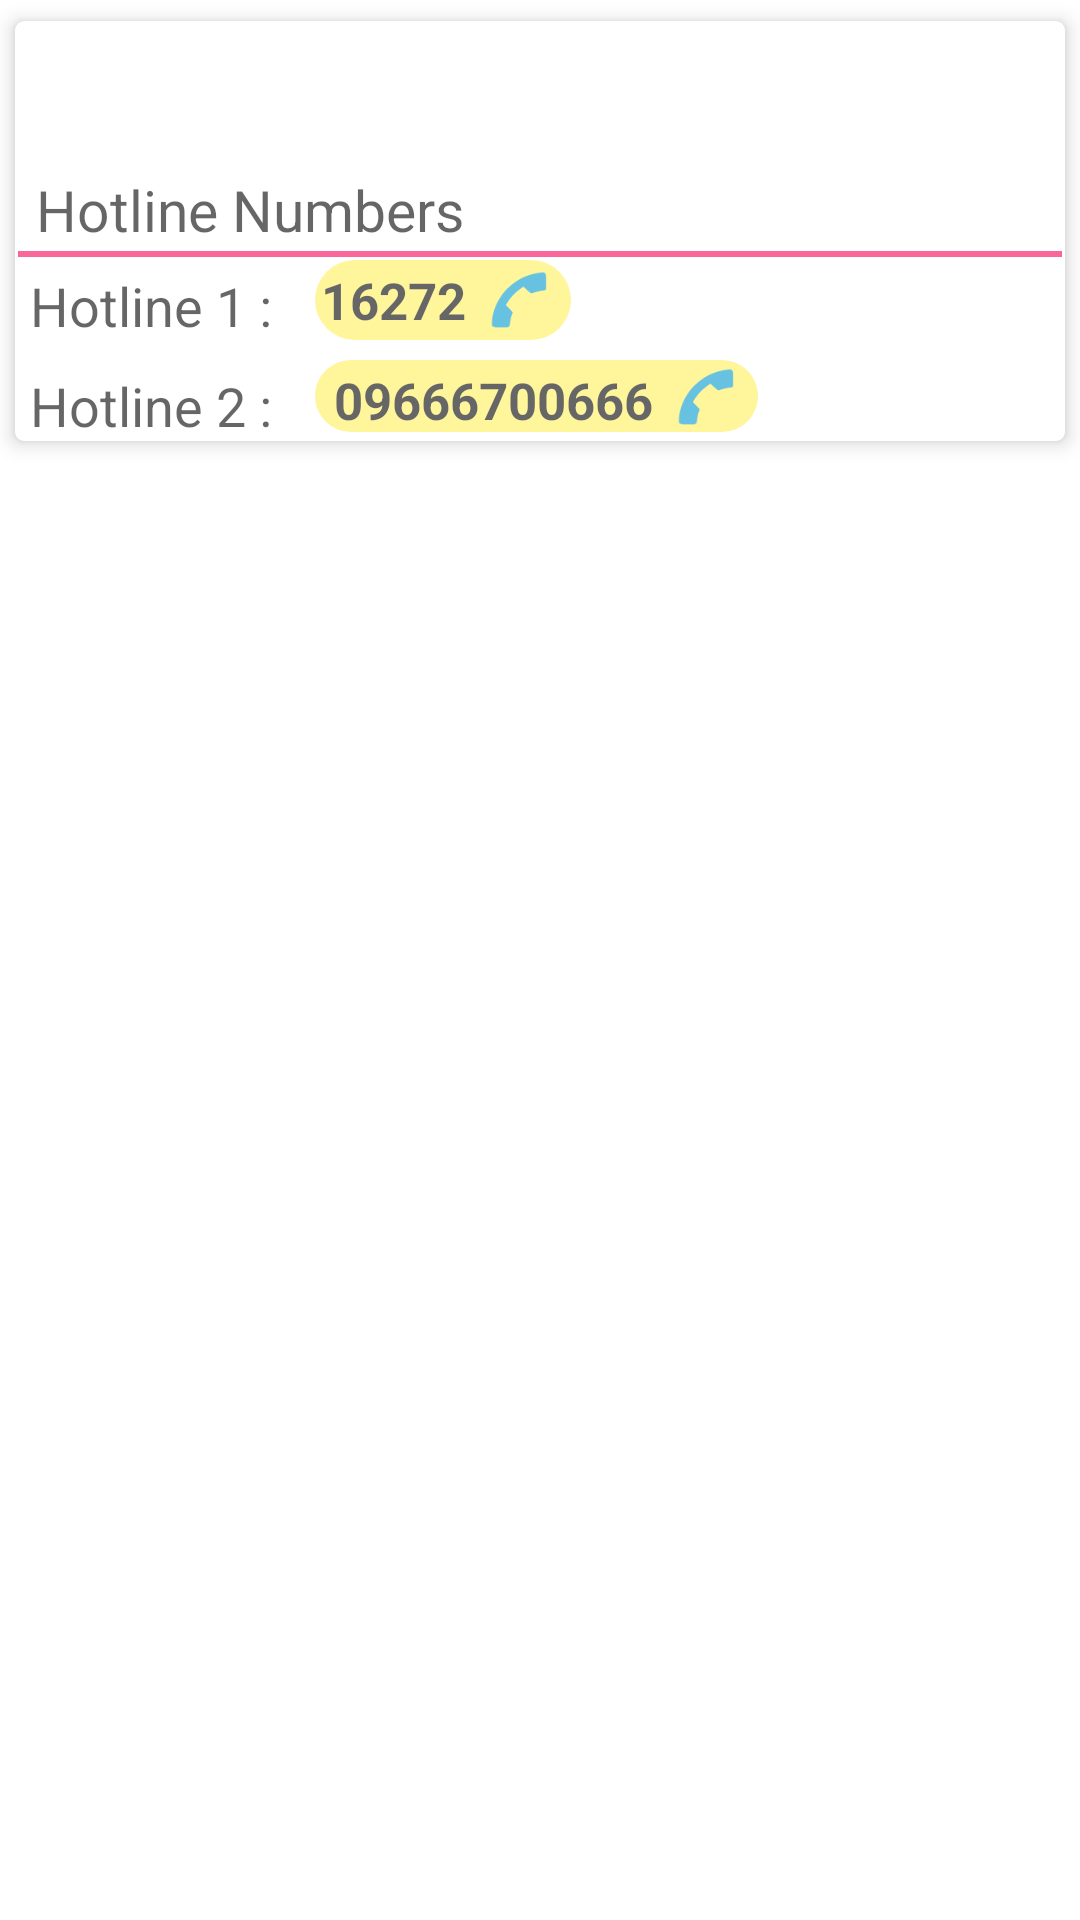

Icons on this 1080*1920 Android screen, each with the point to tap as (x=x, y=y):
phoneicon: (x=518, y=299), (x=705, y=396)
